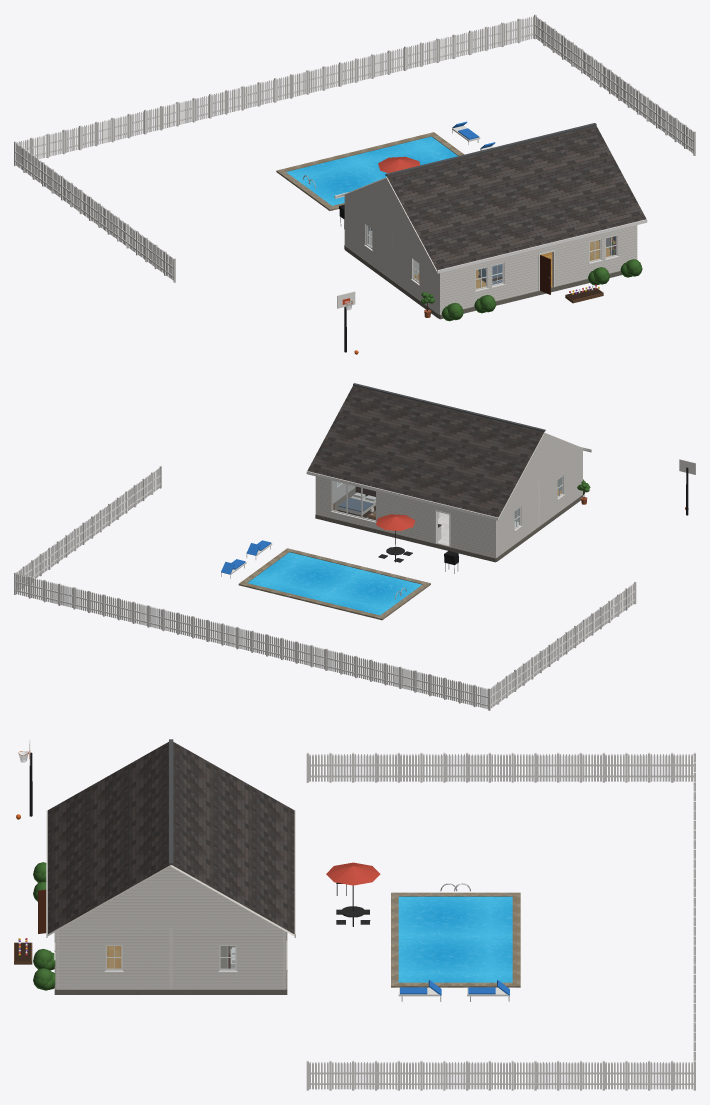
File: house_N2.glb
3 renders of one model, top to bottom at view 1: azimuth 30°, elevation 25°; view 2: azimuth 150°, elevation 25°; view 3: azimuth 270°, elevation 25°, orthographic. The views are drawn at different scales.
Bounding box in the file's own units: 32.1 × 6.61 × 29.95.
Materials: 16 (16 with a texture image).
